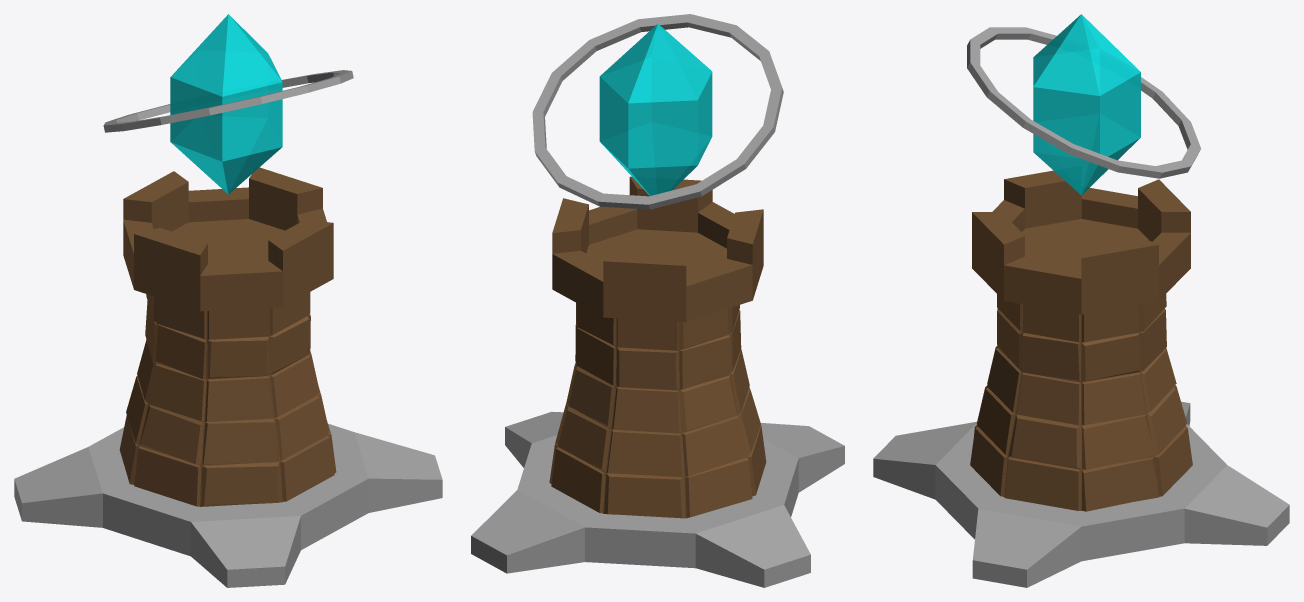
The model's file is Restauracao_Nv2.glb.
3 renders of one model, left to right at view 1: azimuth 30°, elevation 25°; view 2: azimuth 150°, elevation 25°; view 3: azimuth 270°, elevation 25°, orthographic.
Visible parts, largest first — view 1: Cylinder.001, Cristal.001, Turret.001; view 2: Cylinder.001, Cristal.001, Turret.001; view 3: Cylinder.001, Cristal.001, Turret.001.
Part boxes in pixels (bbox=[...]): Cylinder.001: bbox=[14, 167, 442, 587]; Cristal.001: bbox=[170, 14, 282, 194]; Turret.001: bbox=[103, 70, 353, 132]; Cylinder.001: bbox=[471, 176, 844, 587]; Cristal.001: bbox=[599, 24, 712, 195]; Turret.001: bbox=[532, 14, 783, 209]; Cylinder.001: bbox=[873, 170, 1289, 587]; Cristal.001: bbox=[1033, 14, 1140, 195]; Turret.001: bbox=[967, 27, 1200, 178].
Bounding box in the file's own units: 1.54 × 1.98 × 1.54.
